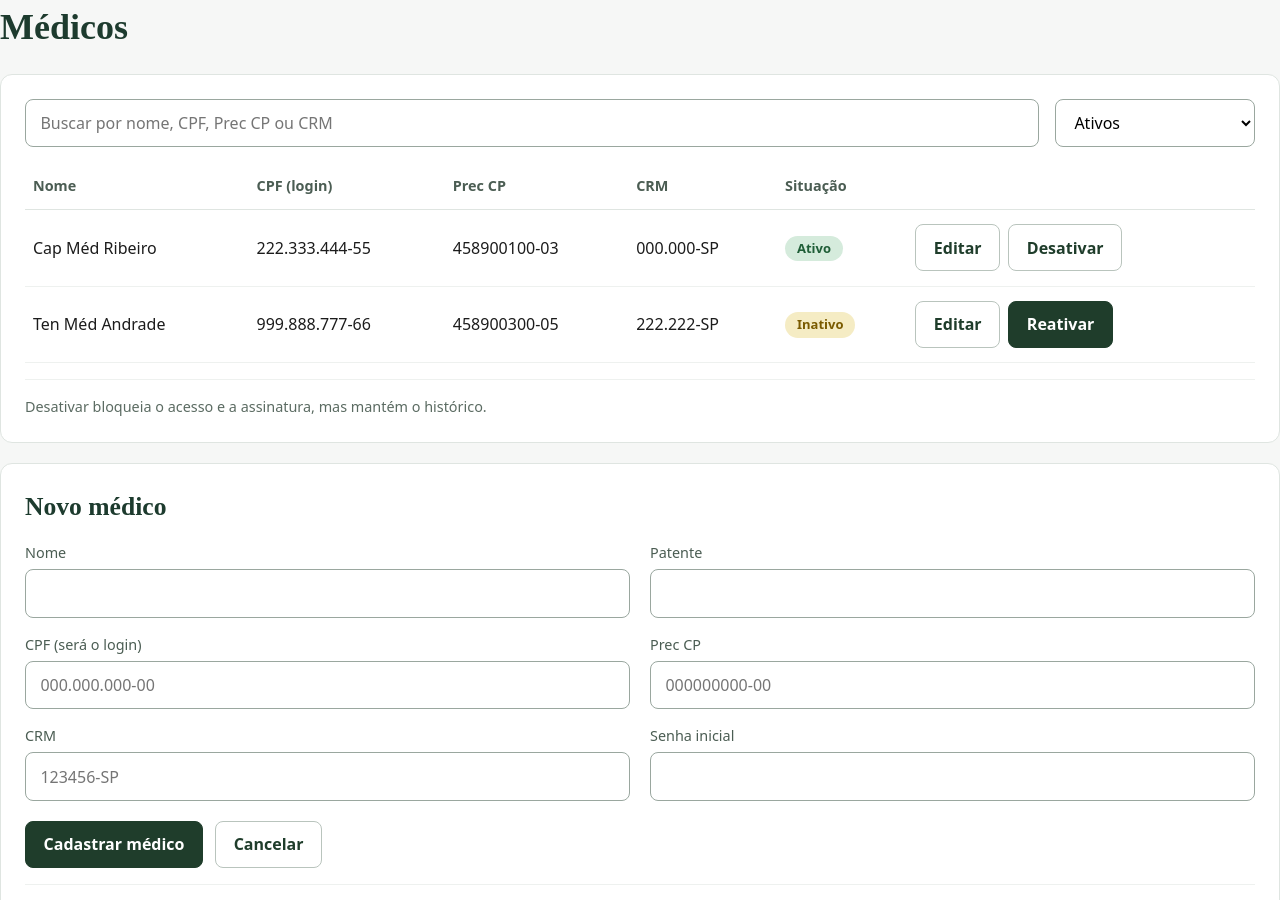
it: T8-FE · Tela Médicos › abre o modo de edição com os dados do médico
Check: the text "Cap Méd Ribeiro" is shown, box [25,210,248,286]
Click the button "Editar" in the row of "Cap Méd Ribeiro". click: [958, 248]
box: [915,224,1000,271]
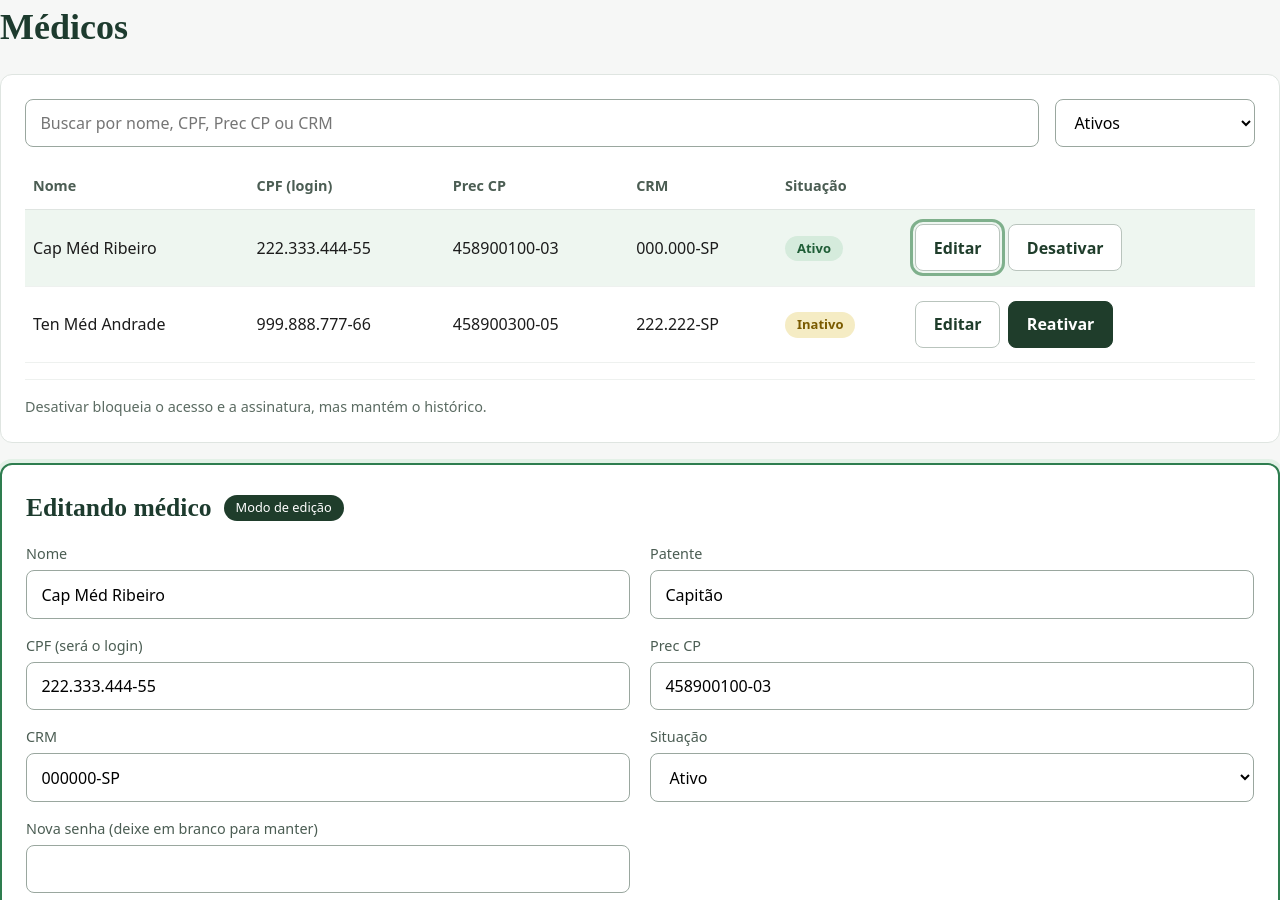
Check: the heading "Editando médico" is shown, box [26,489,212,527]
Check: the field labelled "Patente" holds "Capitão", box [650,570,1254,619]
Check: the field labelled "CPF (será o login)" holds "222.333.444-55", box [26,662,630,710]
